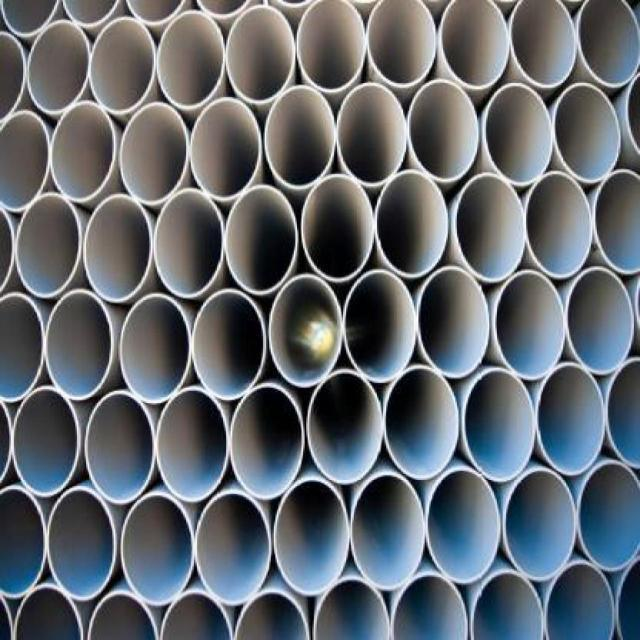pipe: (231, 382, 305, 501), (425, 467, 499, 586), (274, 480, 350, 595), (384, 366, 460, 480), (351, 473, 425, 590), (307, 370, 382, 485), (196, 491, 271, 605), (342, 269, 416, 383), (502, 469, 576, 583), (155, 387, 228, 502), (268, 276, 342, 388), (119, 494, 193, 606), (463, 368, 535, 482), (375, 169, 449, 279), (192, 290, 266, 400), (118, 293, 191, 404), (417, 266, 489, 378), (48, 486, 117, 602), (84, 392, 154, 506), (454, 172, 527, 281), (225, 186, 298, 295), (536, 364, 607, 476), (301, 174, 374, 282), (495, 270, 566, 381), (44, 290, 114, 401), (154, 189, 224, 299), (264, 85, 337, 189), (12, 386, 80, 496), (336, 83, 407, 188), (84, 193, 153, 301), (409, 78, 480, 182), (190, 98, 261, 202), (119, 101, 190, 205), (566, 266, 634, 374), (484, 83, 554, 186), (525, 171, 593, 277), (15, 193, 82, 299), (226, 4, 296, 104), (578, 461, 640, 572), (295, 0, 368, 94), (157, 9, 225, 109), (88, 16, 156, 116), (553, 83, 621, 183), (51, 101, 115, 203), (366, 1, 437, 88), (440, 0, 508, 89), (27, 20, 92, 113), (510, 1, 577, 88), (0, 485, 49, 601), (545, 562, 616, 639), (578, 0, 640, 88), (391, 574, 470, 639), (0, 111, 51, 211), (471, 571, 543, 639), (0, 291, 44, 402), (594, 168, 639, 276), (313, 577, 391, 639), (13, 582, 84, 639), (604, 357, 640, 469), (232, 590, 311, 638), (159, 591, 233, 639), (87, 591, 160, 639), (0, 32, 28, 122), (0, 0, 60, 37), (617, 555, 640, 640), (125, 0, 190, 25), (62, 0, 122, 25), (0, 208, 16, 293), (624, 73, 640, 156), (196, 0, 261, 17)
